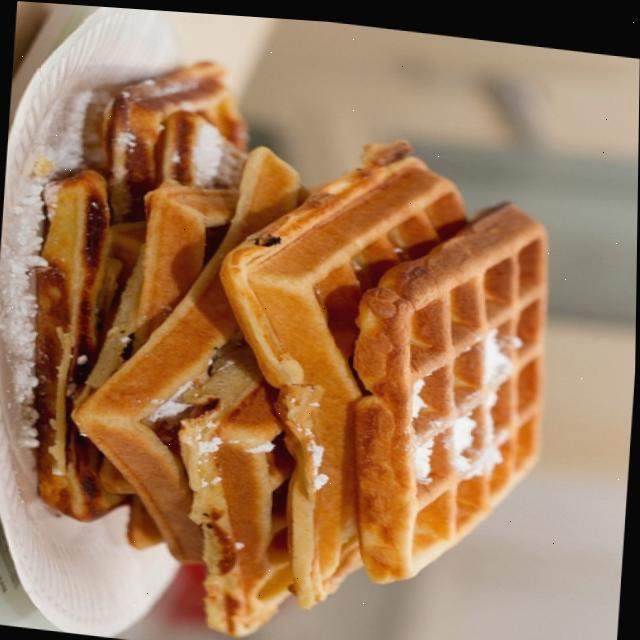炸货点心: (0, 8, 622, 640)
蛋糕甜品: (0, 8, 622, 640)
